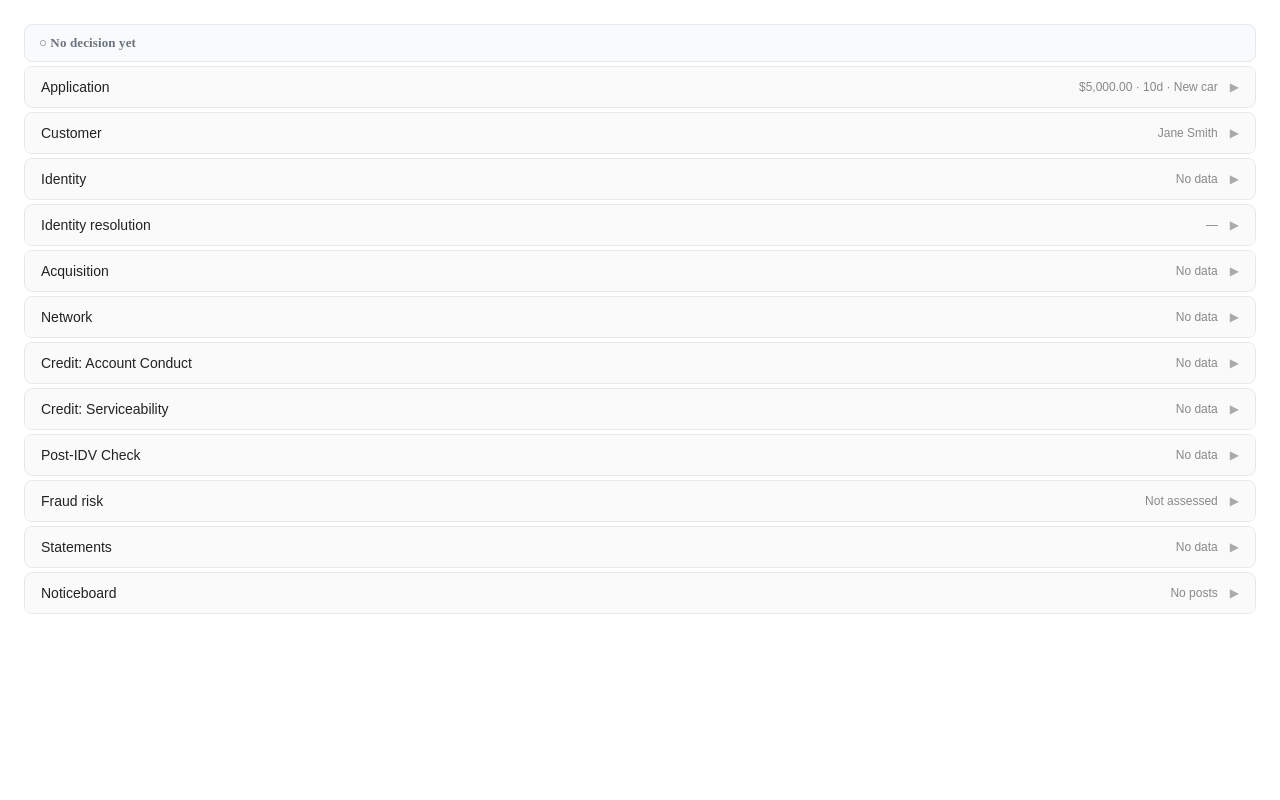
AssessmentPanel — fraud risk summary › shows "Not assessed" chip and explicit copy when no row has arrived
Expected: the text "Not assessed" is shown, [1145, 494, 1218, 508]
Click the button "Fraud risk Not assessed ▶" at x=72, y=501, box [25, 481, 1255, 521]
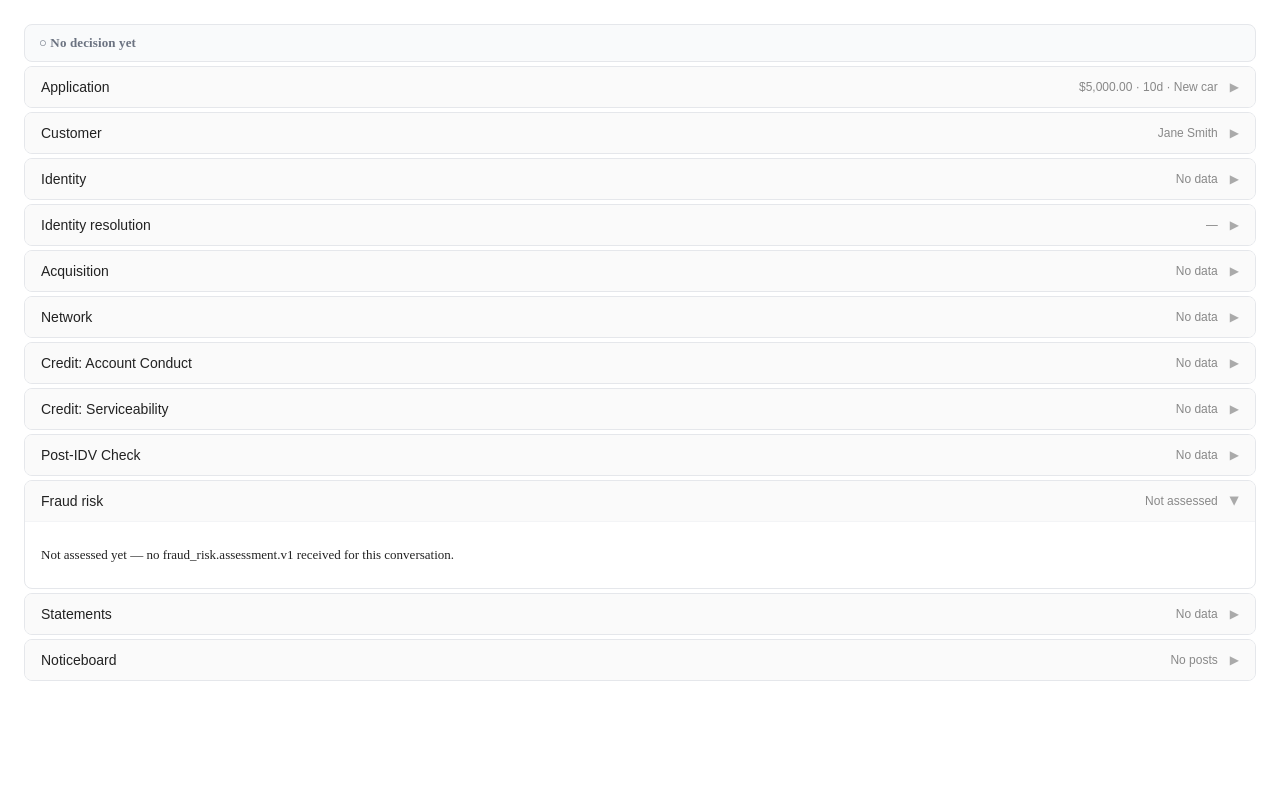
Expected: the text "Not assessed yet — no fraud_risk.assessment.v1 received for this conversation." is shown, [41, 547, 454, 562]
